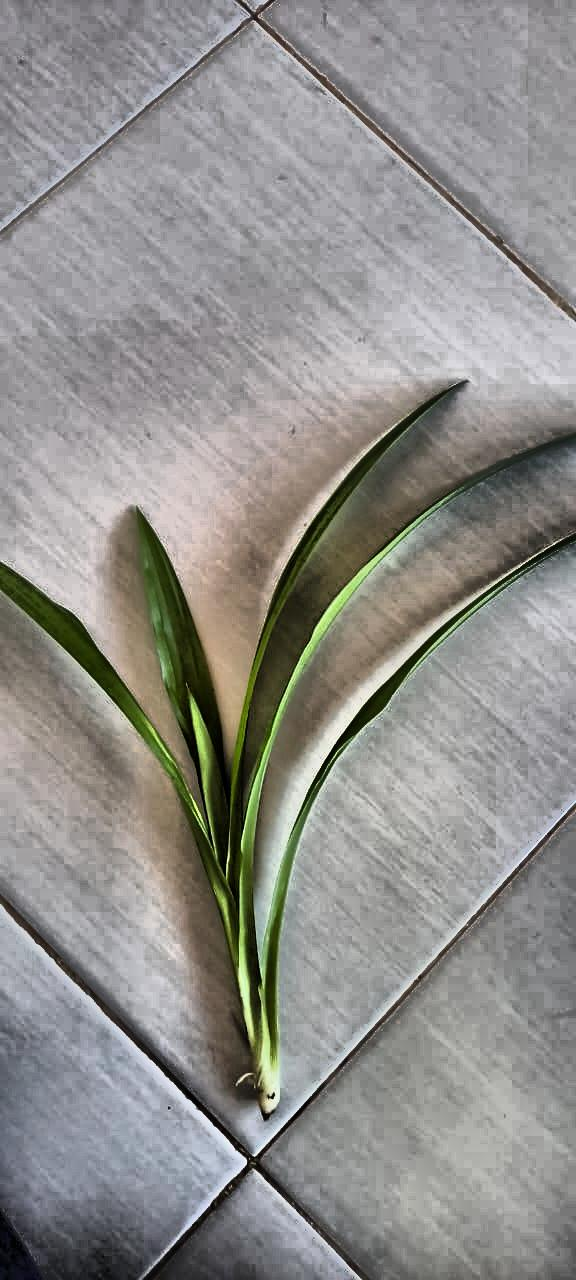daun pandan: (0, 387, 575, 1118)
